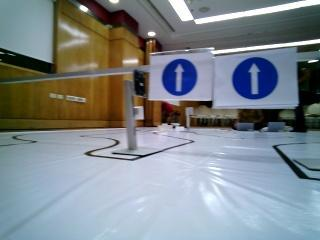straight: (212, 52, 297, 106), (148, 52, 211, 100)
